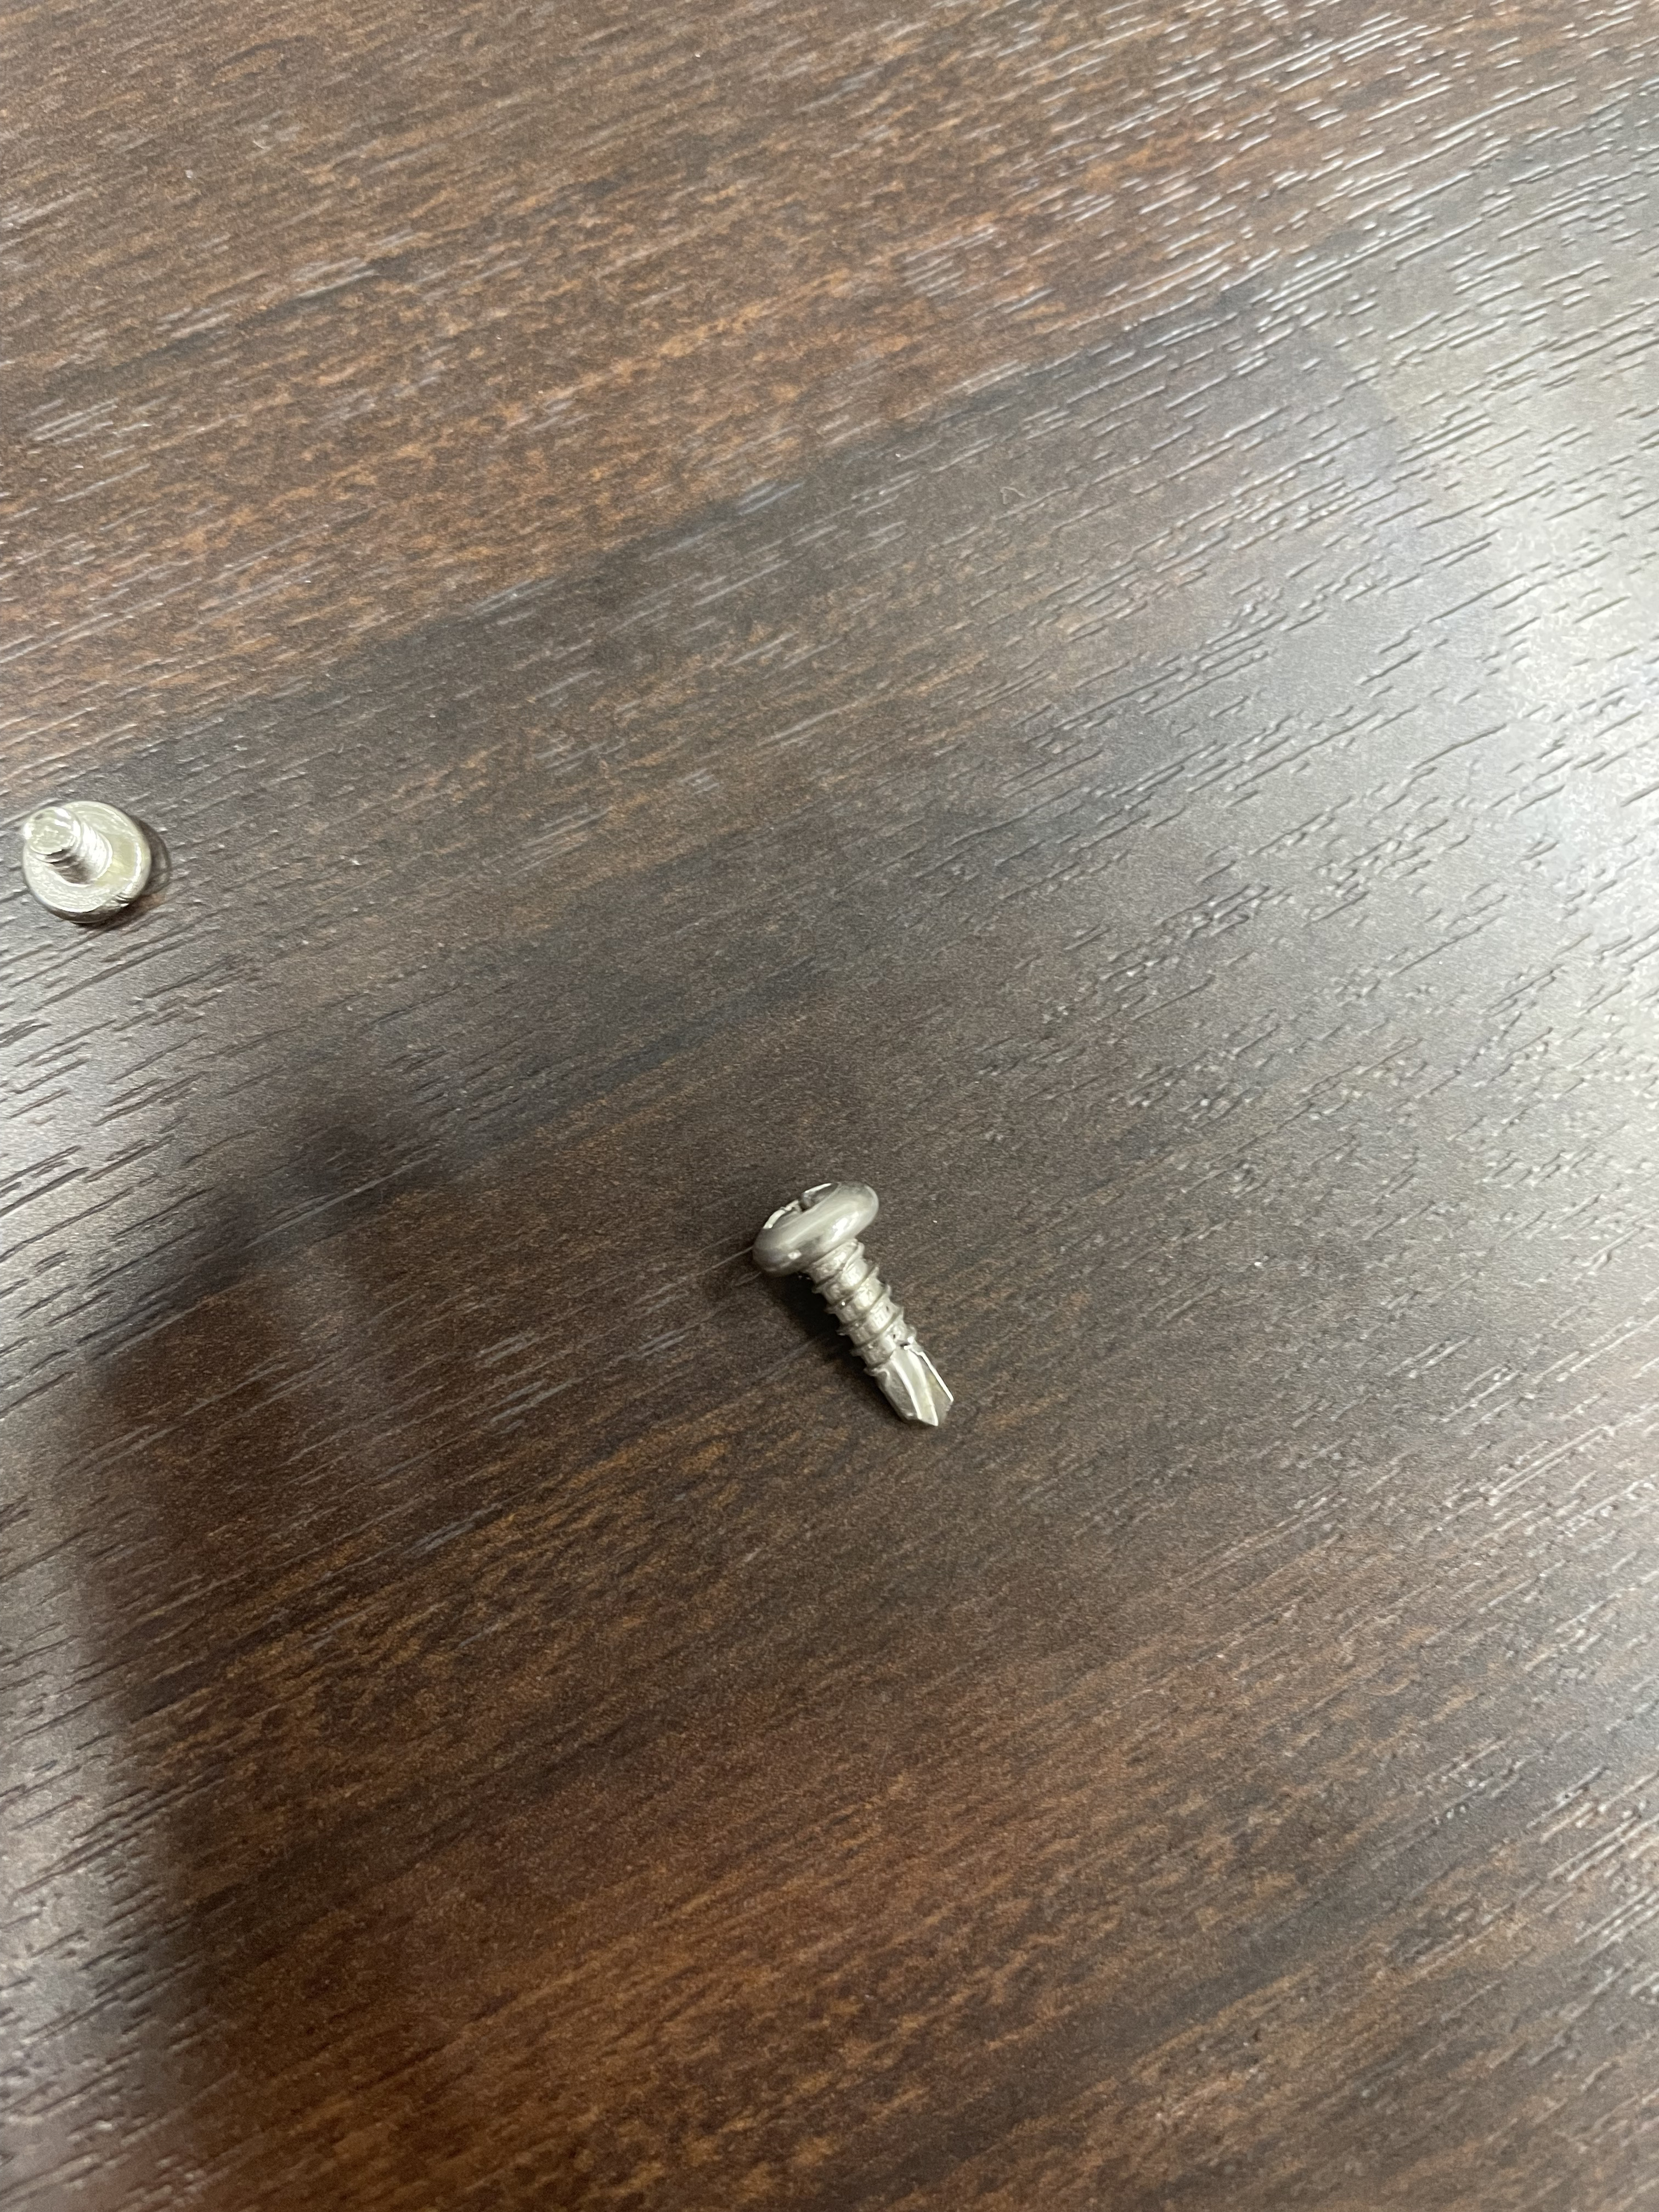screw3: (753, 1172, 957, 1440)
